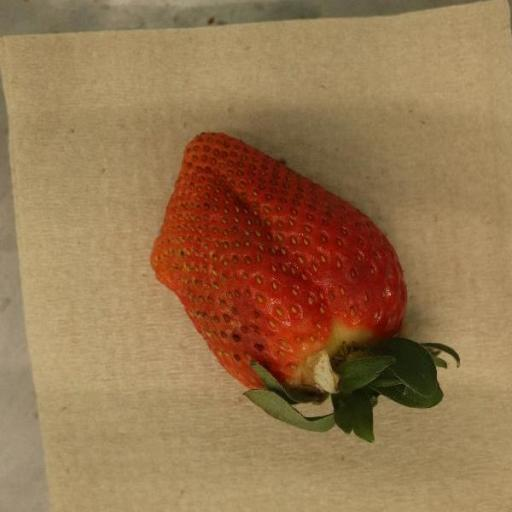Strawberry: (148, 132, 457, 446)
